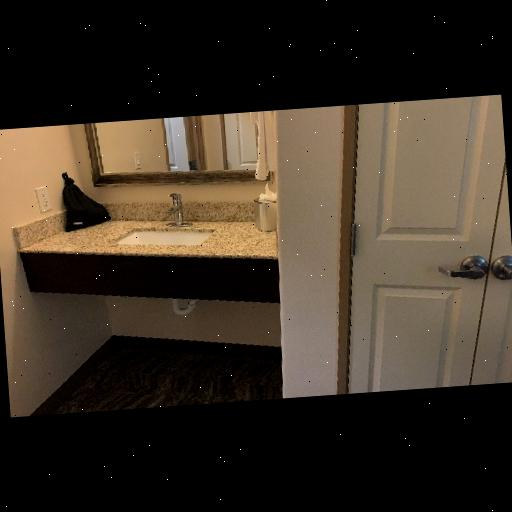clean_sink: (14, 199, 285, 305)
